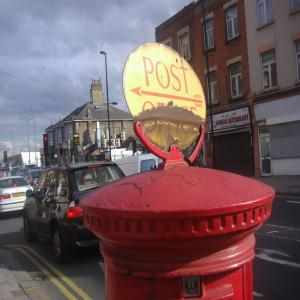Vehicle-registration-plate: (12, 194, 26, 199)
